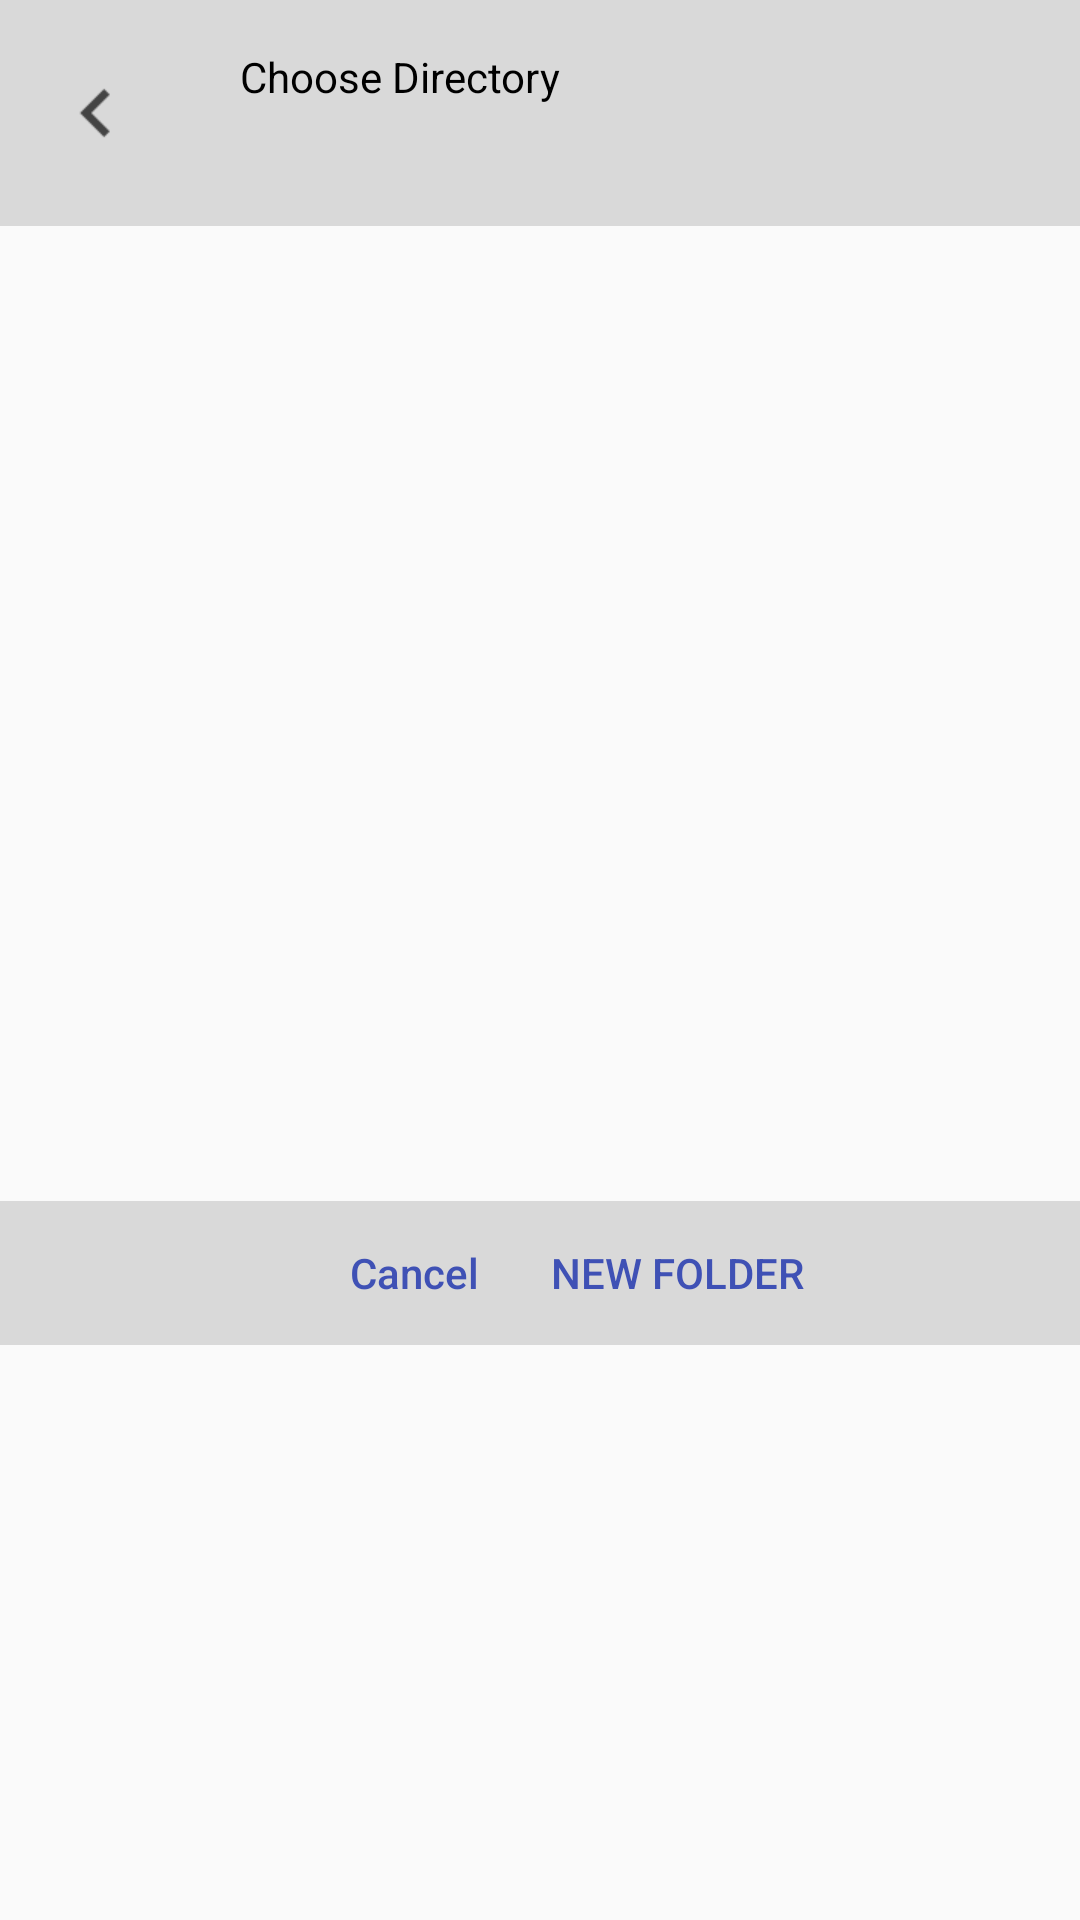

Where icons sit on this 1080×1920 app screen, as (x1, y1, x2, y2):
chevron left: (80, 89, 110, 137)
